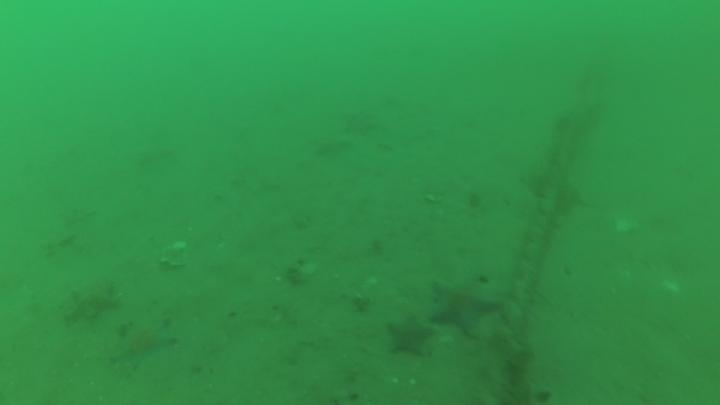scallop: (157, 240, 192, 270)
starfish: (425, 275, 502, 339), (108, 315, 179, 374), (60, 279, 122, 325), (383, 313, 438, 361)
